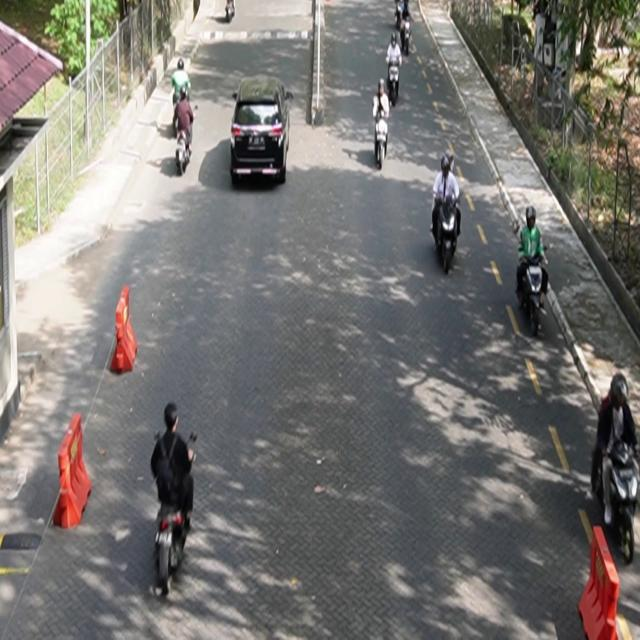car: (231, 75, 295, 186)
